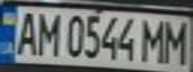0: (63, 11, 84, 58)
4: (115, 15, 142, 62), (100, 14, 121, 61)
5: (81, 11, 103, 60)
A: (9, 8, 42, 56)
M: (33, 9, 63, 57), (163, 17, 193, 65), (139, 16, 169, 64)
